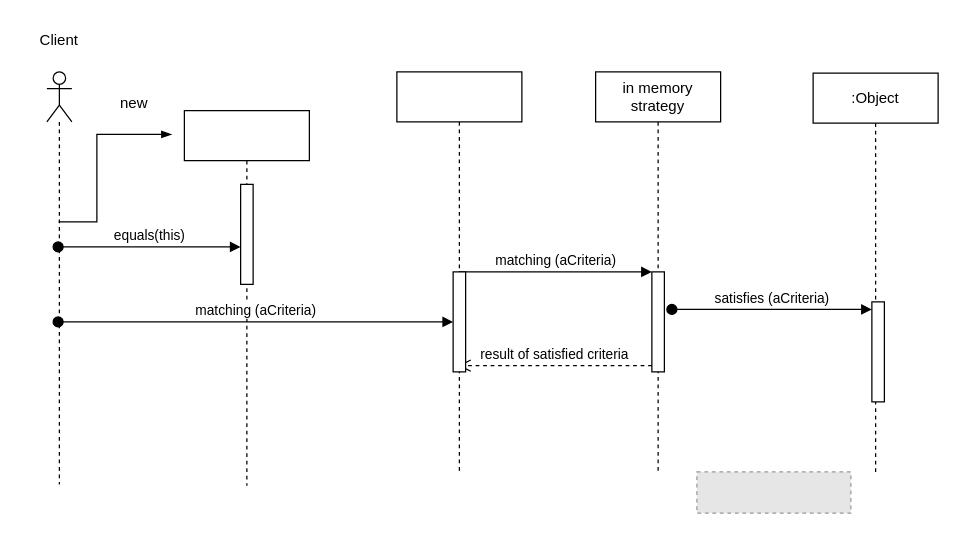
This 960x535 diagram has some shape labels left out. Grey dashed boxes stand in for pictures. The centre of each missing label's shape, as x and y in pixels:
aCriteria: the point at 246,297
the repository: the point at 459,271
